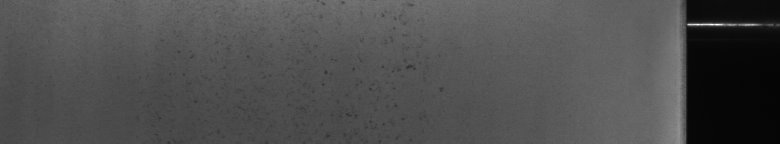ib: (261, 4, 444, 136)
